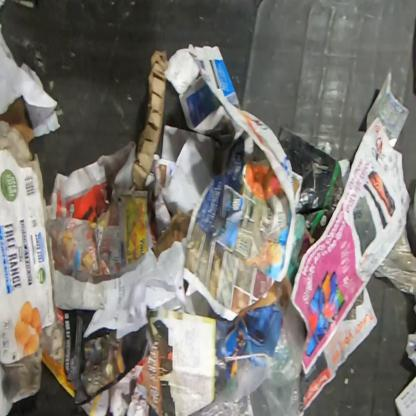cardboard: (0, 120, 56, 366), (164, 44, 241, 136), (131, 49, 168, 190)
soft_plastic: (189, 301, 308, 415), (373, 224, 415, 296)
